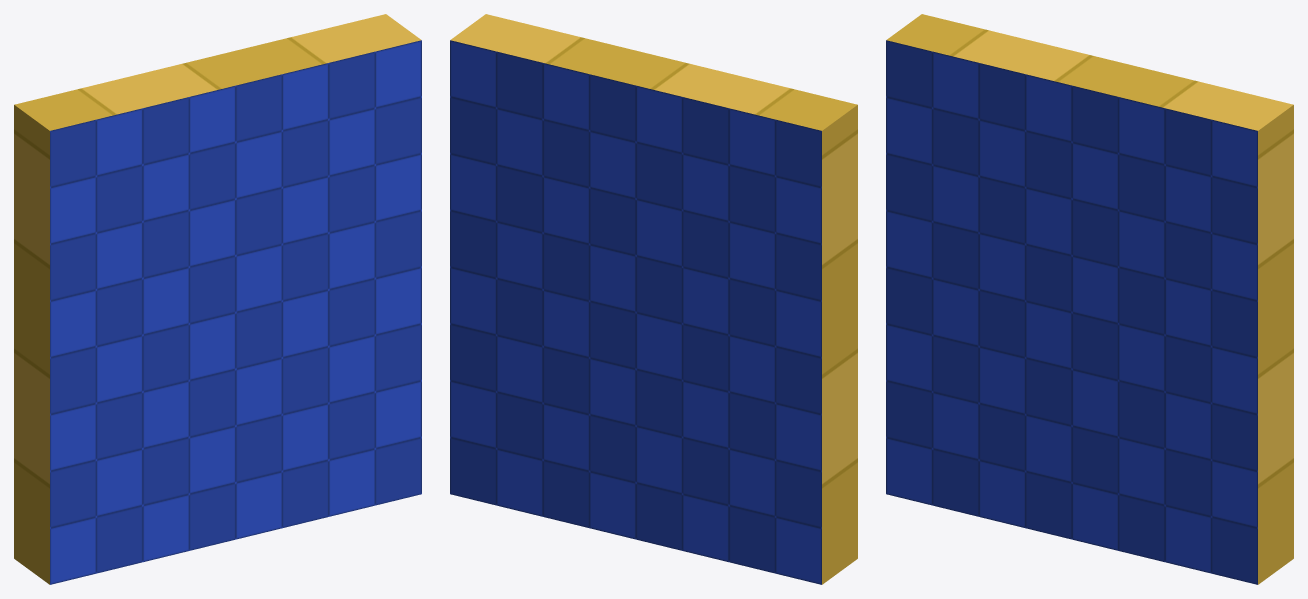
Rendered from Wall3m.fbx.
3 renders of one model, left to right at view 1: azimuth 30°, elevation 25°; view 2: azimuth 150°, elevation 25°; view 3: azimuth 330°, elevation 25°, orthographic.
Parts seen in each view (by area): view 1: Wall3m; view 2: Wall3m; view 3: Wall3m.
Boxes of the visible parts, x1,y1,x2,y2 form: Wall3m: (14,14,421,584); Wall3m: (450,14,857,584); Wall3m: (886,14,1293,584).
Size of the model in its own units: 300 by 50 by 350.
